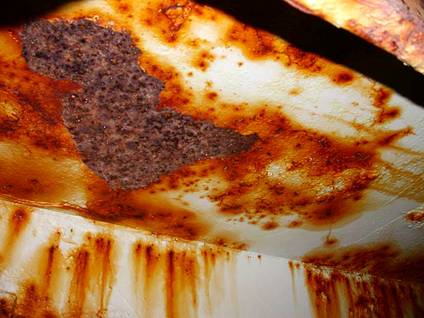rust: (26, 25, 259, 185)
